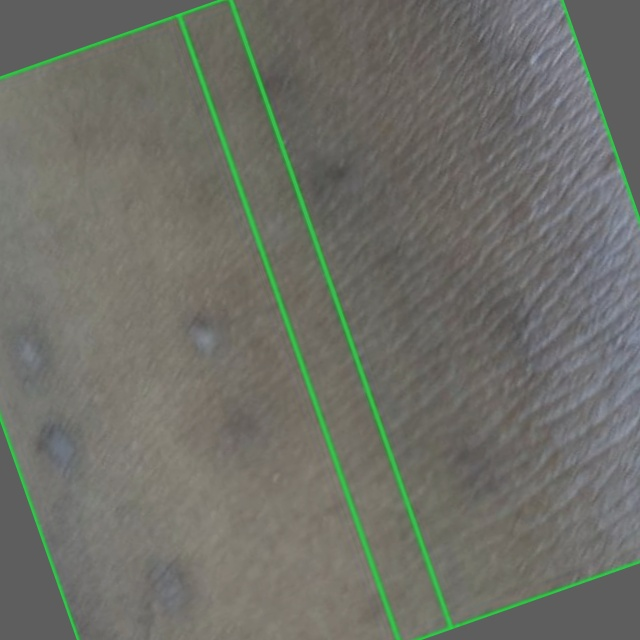Scabies: (179, 0, 639, 639), (0, 0, 451, 639)
